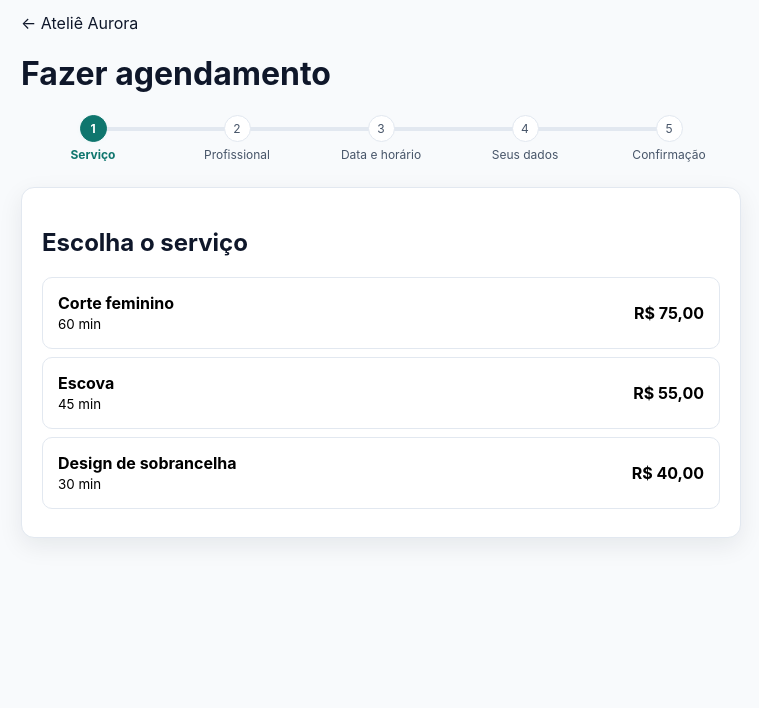
Test: invalida seleção posterior ao trocar de serviço
This screenshot has width=759, height=708.
Step 1. Click the button "Corte feminino60 min R$ 75,00" → (116, 303), box [42,277,720,349]
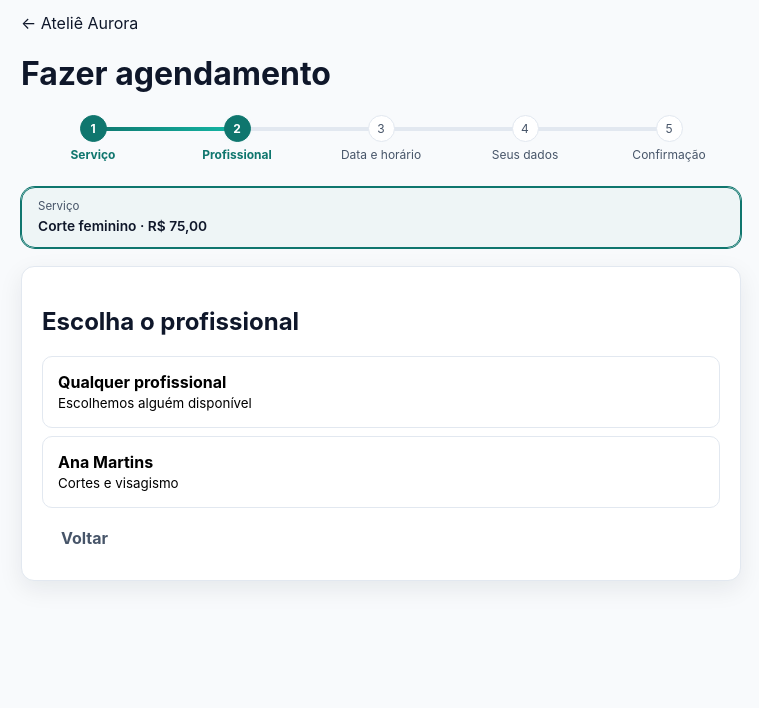
Step 2. Click the button "Ana Martins" → (106, 462), box [42,436,720,508]
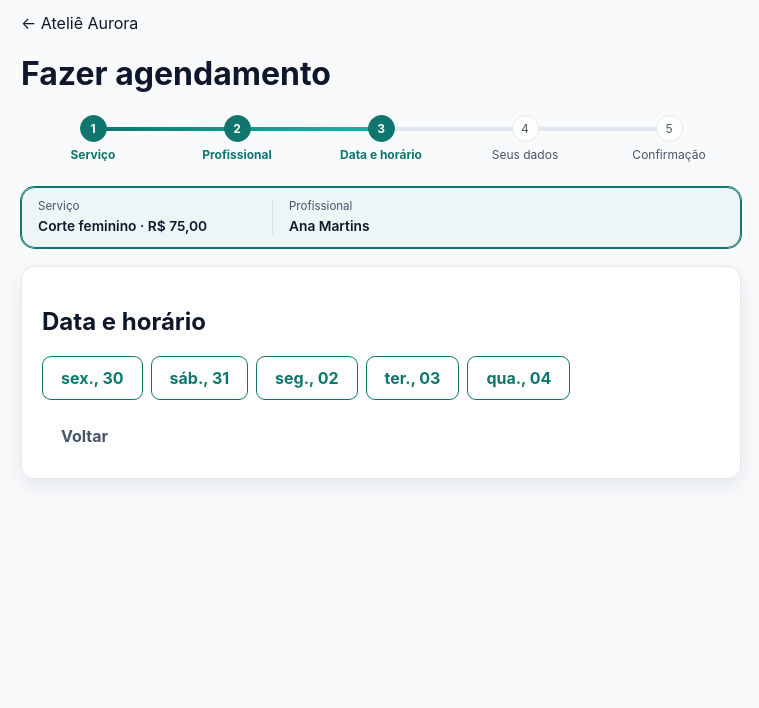
Step 3. Click the button "seg., 02" → (307, 378), box [256,356,358,400]
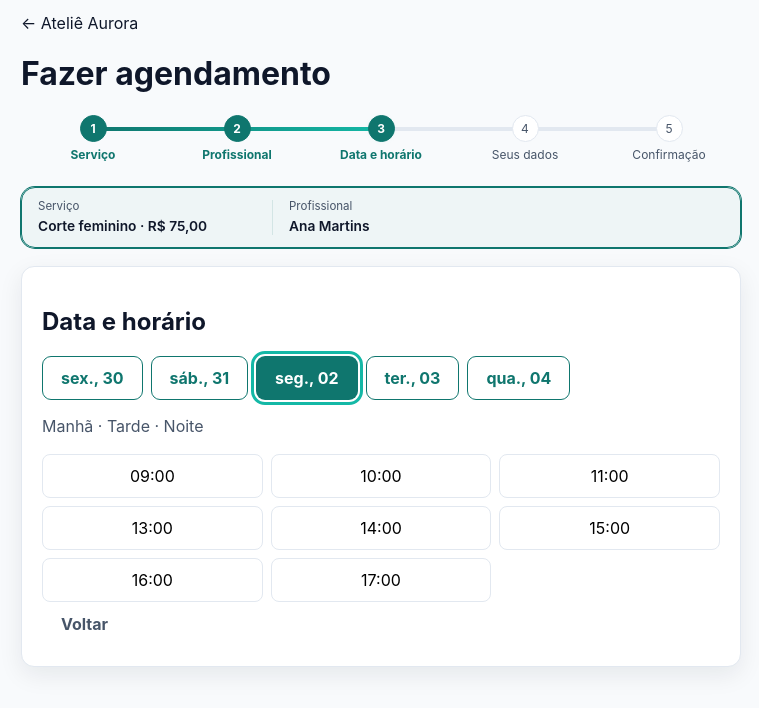
Step 4. Click the button "10:00" → (381, 476), box [271,454,491,498]
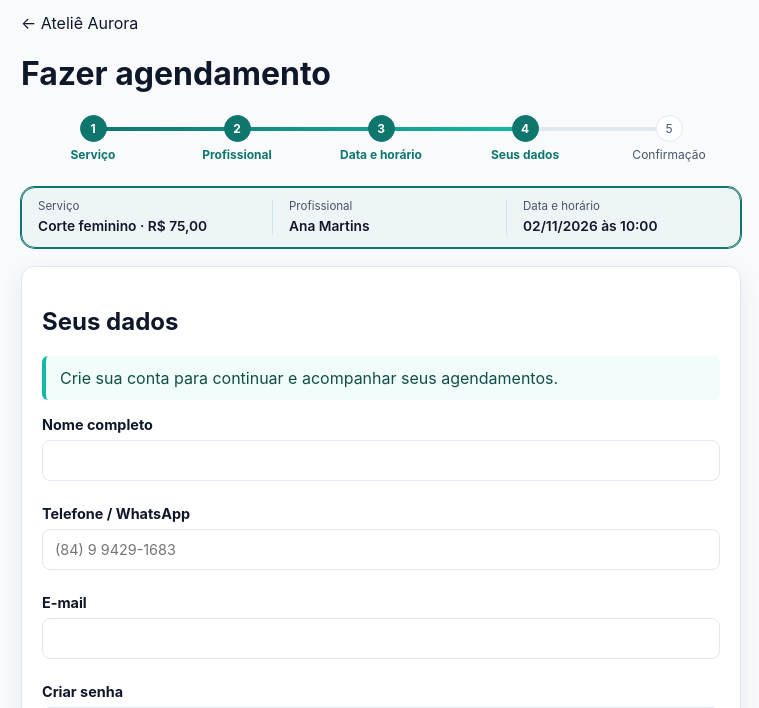
Step 5. Click the button with aria-label "Ir para Serviço" → (93, 139), box [21,115,165,163]
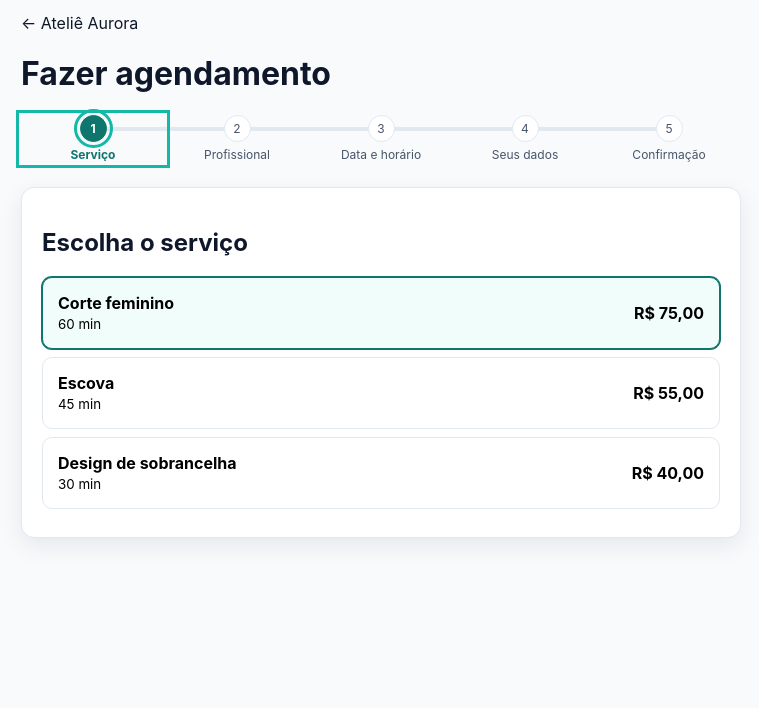
Step 6. Click the button "Escova45 min R$ 55,00" → (86, 383), box [42,357,720,429]
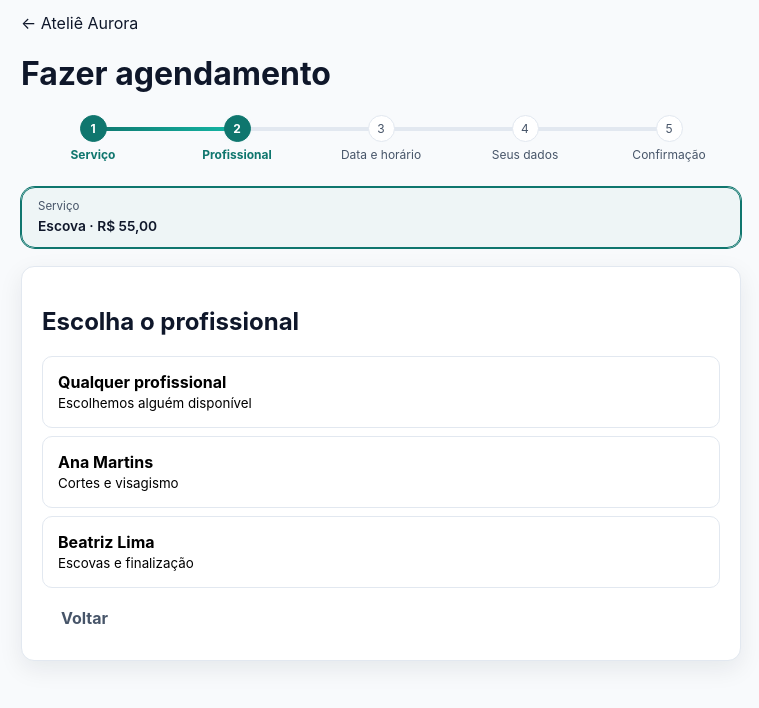
Expected: the element named "Resumo das escolhas" does not show "Ana Martins", [21,187,741,248]
Result: the heading "Escolha o profissional" is shown at [42,307,299,336]
Result: the element named "Resumo das escolhas" shows "Escova" at [38,218,157,234]
